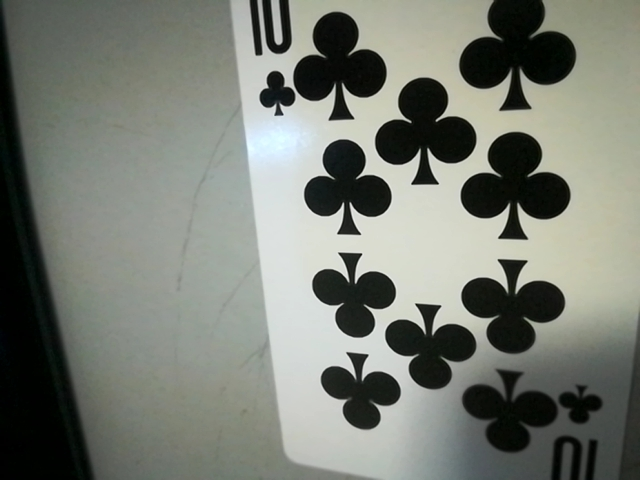mh 10: (233, 0, 302, 121)
